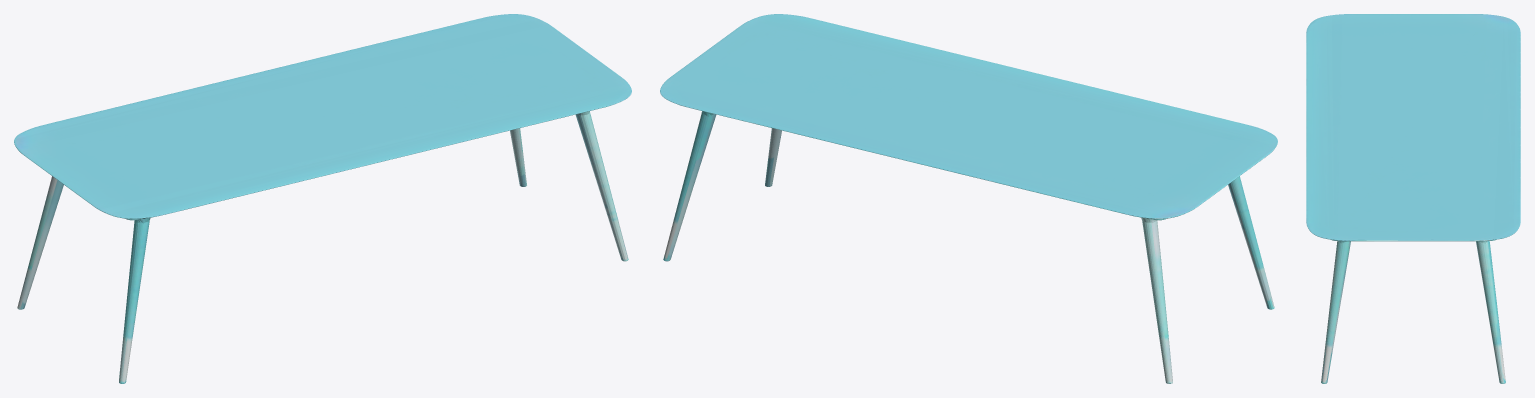
Rendered from edited_mesh.glb.
The picture shows the model from 3 angles, left to right: view 1: azimuth 30°, elevation 25°; view 2: azimuth 150°, elevation 25°; view 3: azimuth 270°, elevation 25°; orthographic projection. The views are drawn at different scales.
Parts seen in each view (by area): view 1: normalized_model.obj; view 2: normalized_model.obj; view 3: normalized_model.obj.
Part boxes in pixels (<box>): normalized_model.obj: <box>14,14,631,383</box>; normalized_model.obj: <box>660,14,1277,383</box>; normalized_model.obj: <box>1306,14,1520,383</box>.
Bounding box in the file's own units: 2 × 0.6096 × 0.8.
1 material, 1 textured.
